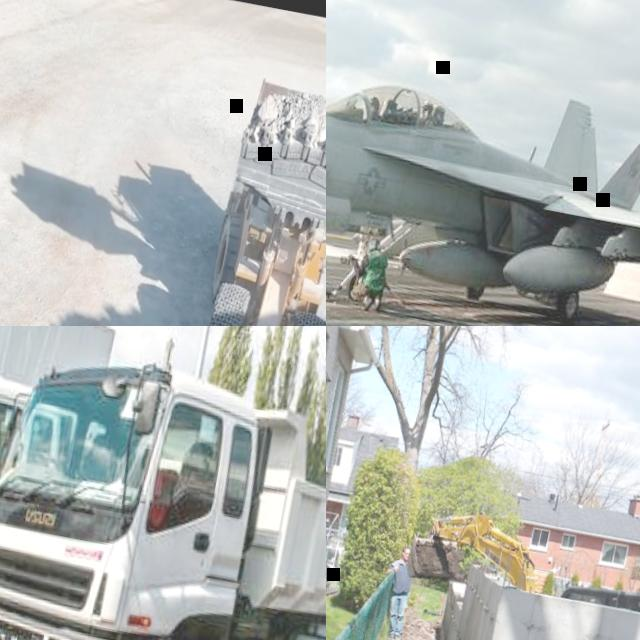Hardhat: (369, 237, 381, 249)
NO-Hardhat: (401, 545, 412, 554)
NO-Mask: (400, 554, 409, 562)
NO-Safety Vest: (336, 233, 395, 314), (360, 249, 389, 291), (390, 560, 415, 597)
Person: (374, 543, 420, 639)
vehicle: (0, 326, 326, 640), (177, 69, 326, 326), (401, 498, 550, 605), (558, 577, 640, 620)
